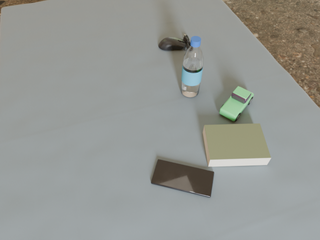book: (203, 124, 271, 167)
bottle: (181, 36, 203, 97)
mouse: (159, 34, 191, 50)
phone: (151, 159, 214, 197)
toy_car: (219, 86, 254, 121)
